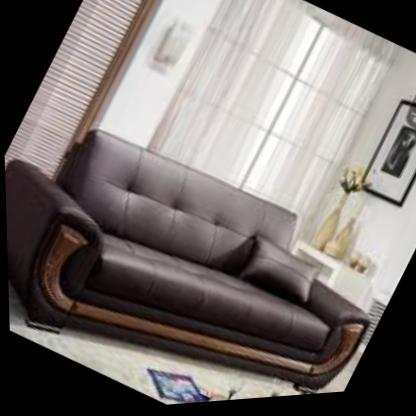Sofa: (2, 60, 413, 416)
